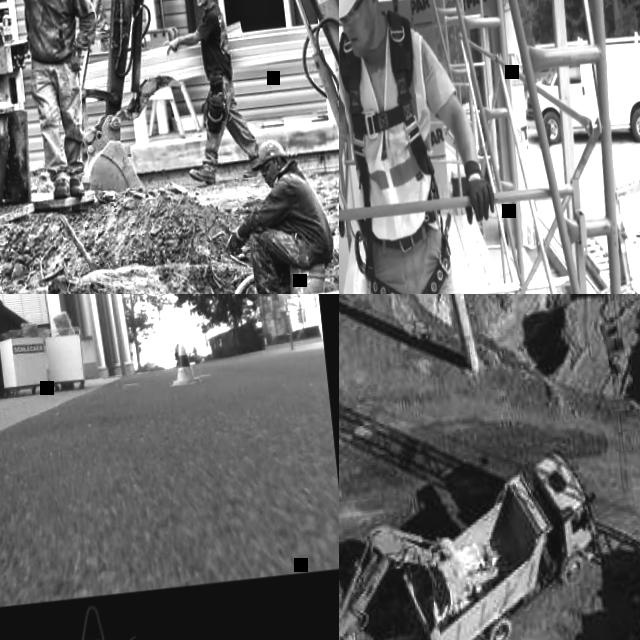NO-Hardhat: (249, 136, 288, 163)
NO-Mask: (349, 21, 377, 57), (264, 176, 275, 189), (195, 0, 209, 5)
NO-Safety Vest: (274, 171, 324, 242), (18, 0, 75, 61), (199, 8, 232, 74)
Person: (339, 0, 517, 294), (0, 0, 115, 201), (211, 131, 339, 294), (156, 0, 264, 188)
Safety Cone: (166, 343, 202, 387)
Safety Vest: (339, 12, 444, 239)
machinery: (50, 0, 339, 294), (384, 443, 611, 640), (339, 512, 486, 640)
vehicle: (516, 29, 640, 153)
